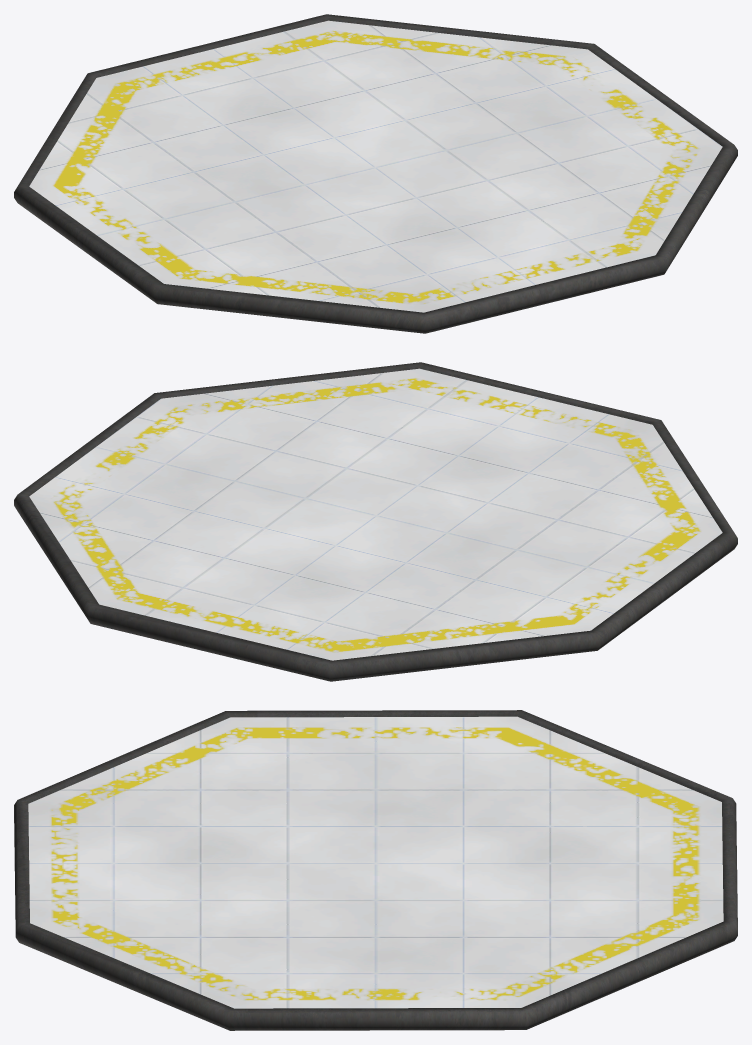
The model's file is 04_02_divingroom_platform.DAE.
The picture shows the model from 3 angles, top to bottom: view 1: azimuth 30°, elevation 25°; view 2: azimuth 150°, elevation 25°; view 3: azimuth 270°, elevation 25°; orthographic projection. The views are drawn at different scales.
Parts seen in each view (by area): view 1: side; view 2: side; view 3: side.
Part boxes in pixels (x1,y1,x2,y2): side: (14, 14, 737, 333); side: (14, 362, 737, 681); side: (14, 710, 737, 1030).
Bounding box in the file's own units: 2.03 × 0.0546 × 2.03.
